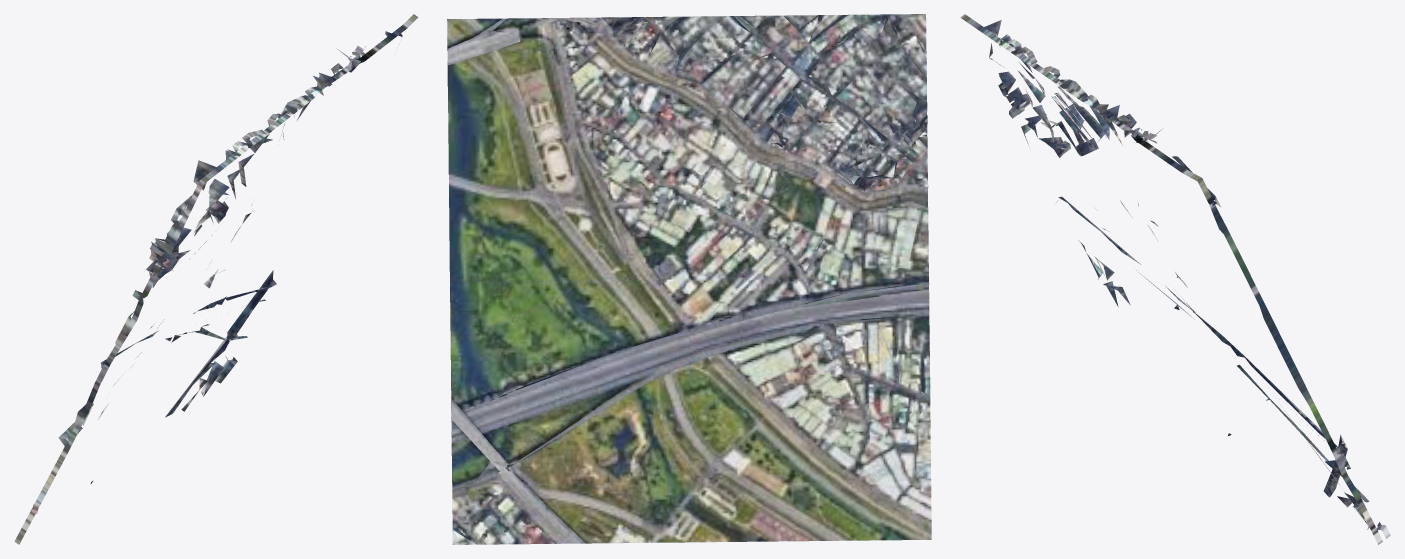
3 views of the same model, side by side, from view 1: azimuth 30°, elevation 25°; view 2: azimuth 150°, elevation 25°; view 3: azimuth 270°, elevation 25° (orthographic). The views are drawn at different scales.
Bounding box in the file's own units: 1225 × 1122 × 1050.
1 material, 1 textured.
